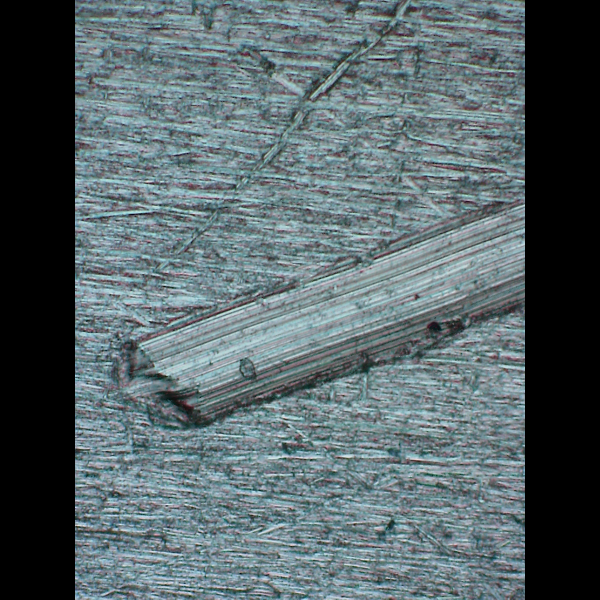d: (97, 191, 525, 439)
